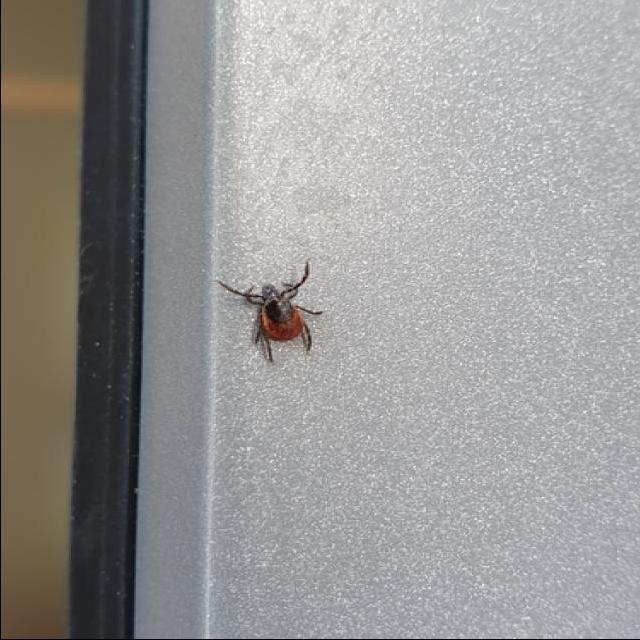Ixodes Ricinus-F: (217, 264, 323, 364)
